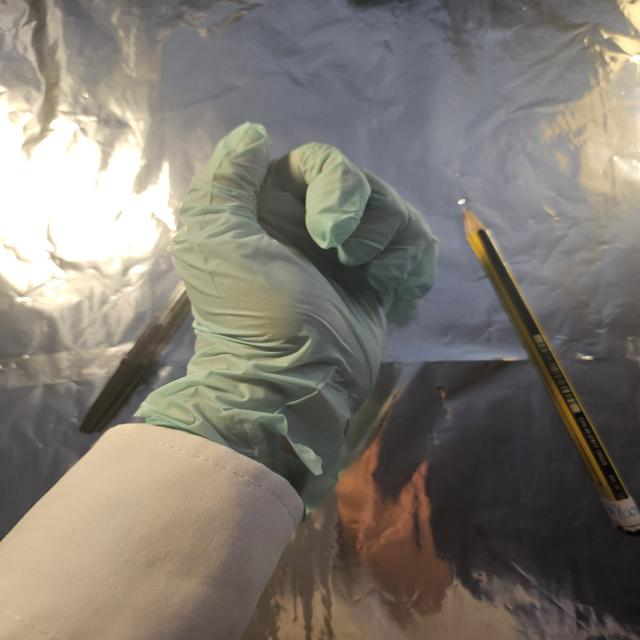gloves_damaged: (130, 120, 440, 525)
